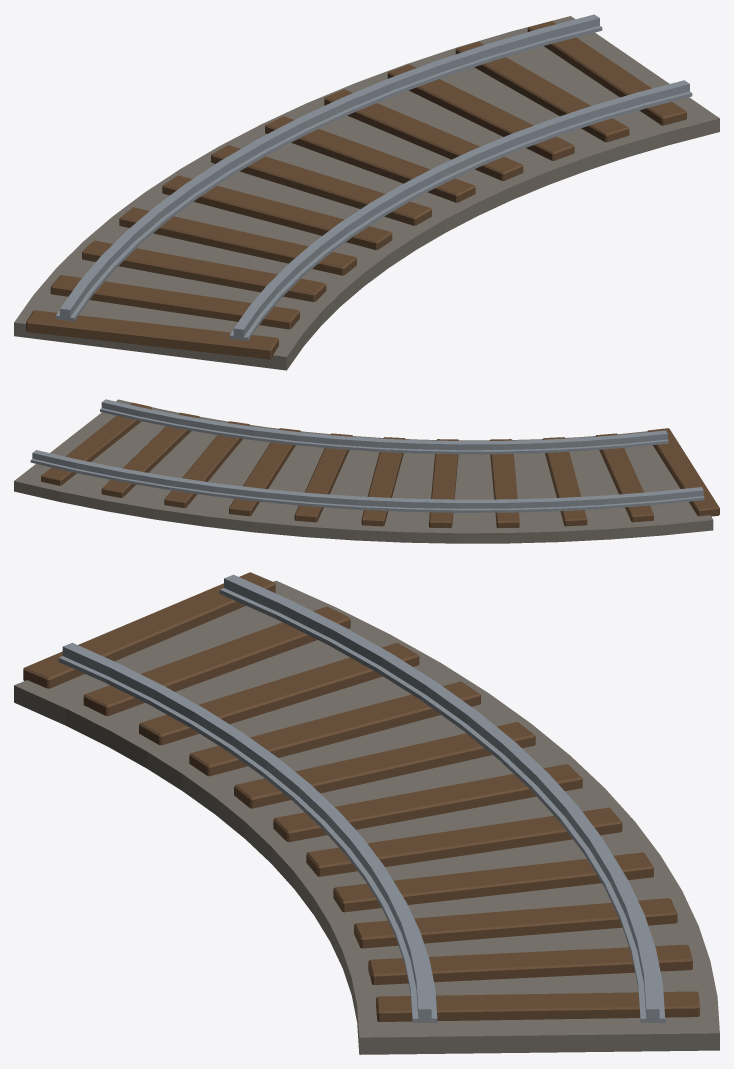
Rendered from rail_virage_45_b.glb.
3 views of the same model, one above another, from view 1: azimuth 30°, elevation 25°; view 2: azimuth 150°, elevation 25°; view 3: azimuth 270°, elevation 25° (orthographic). The views are drawn at different scales.
Visible parts, largest first — view 1: rail_ballast.010, rail_traverse.010, rail_rail.010; view 2: rail_ballast.010, rail_traverse.010, rail_rail.010; view 3: rail_ballast.010, rail_traverse.010, rail_rail.010.
Part boxes in pixels (<box>): rail_ballast.010: <box>14,16,719,370</box>; rail_traverse.010: <box>26,21,686,359</box>; rail_rail.010: <box>55,14,692,340</box>; rail_ballast.010: <box>14,399,713,543</box>; rail_traverse.010: <box>41,402,719,528</box>; rail_rail.010: <box>30,399,704,512</box>; rail_ballast.010: <box>14,580,719,1054</box>; rail_traverse.010: <box>23,572,699,1021</box>; rail_rail.010: <box>58,574,665,1023</box>.
Size of what is drawn, in the model's own units: 2.85 by 0.12 by 1.86.
